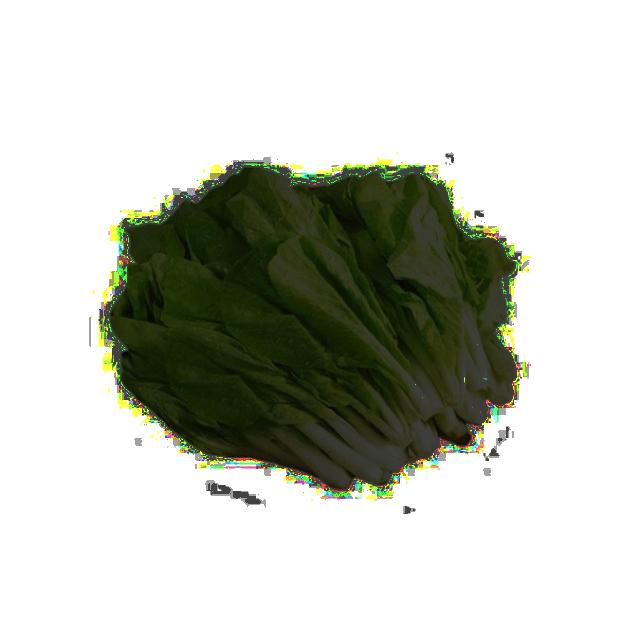chinese_cabbage: (117, 137, 523, 500)
